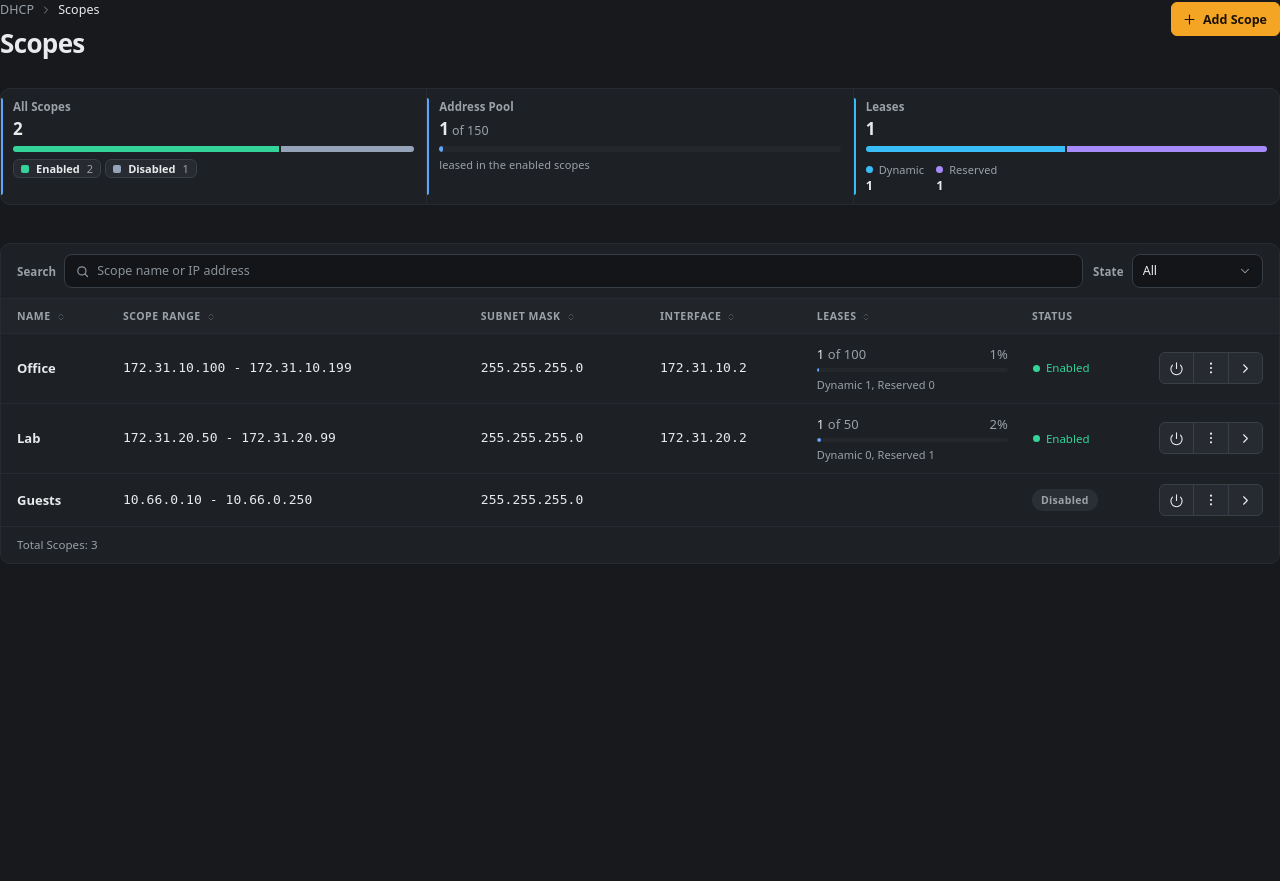
Test case: a scope as a page › its header disables with the same confirmation, and deletes back to the list without reloading it
Expected: the text "Total Scopes: 3" is shown, [17,536,98,554]
Click the button "Office": click(36, 368) [17,358,56,378]
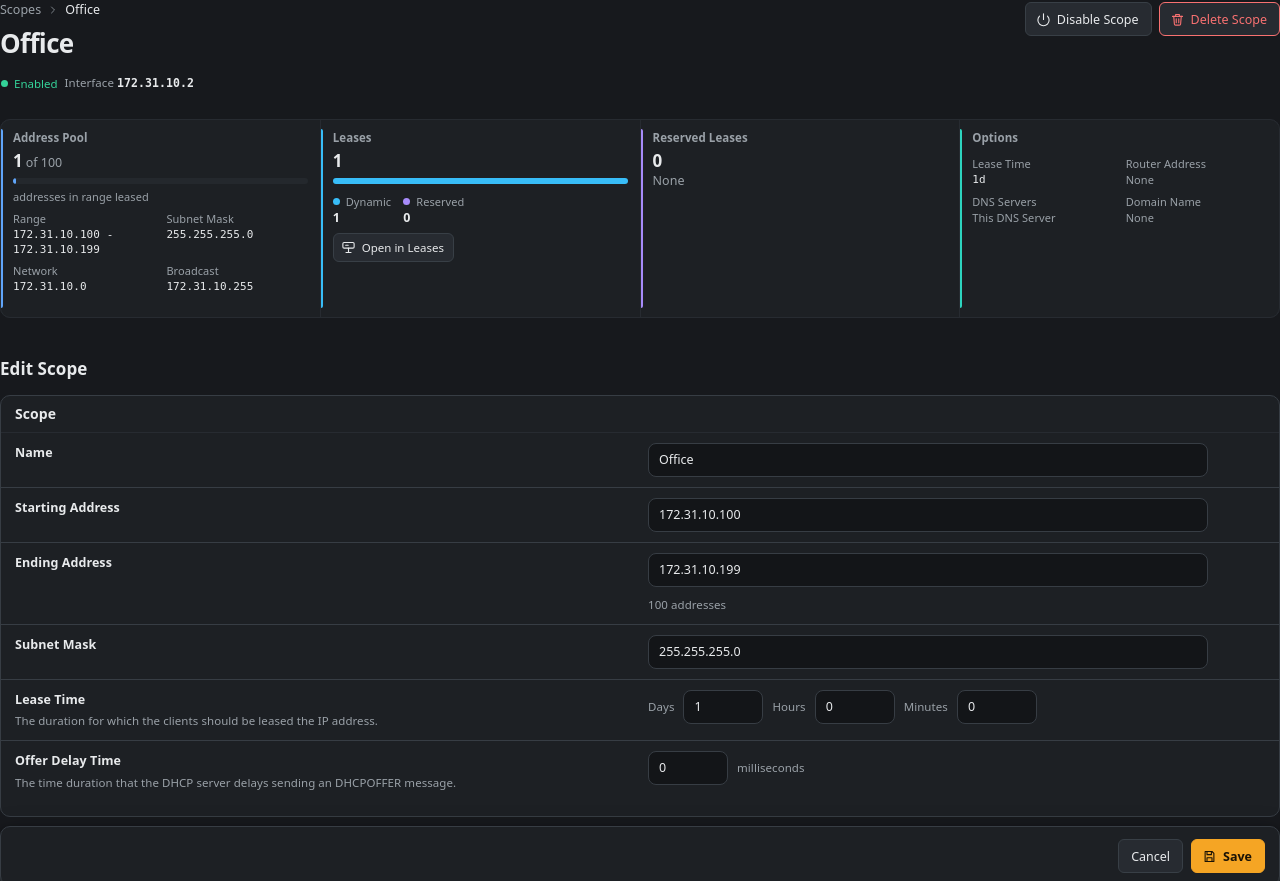
Expected: the heading "Edit Scope" is shown, [0,357,87,380]
Click the button "Disable Scope": click(1088, 19) [1025,2,1152,36]
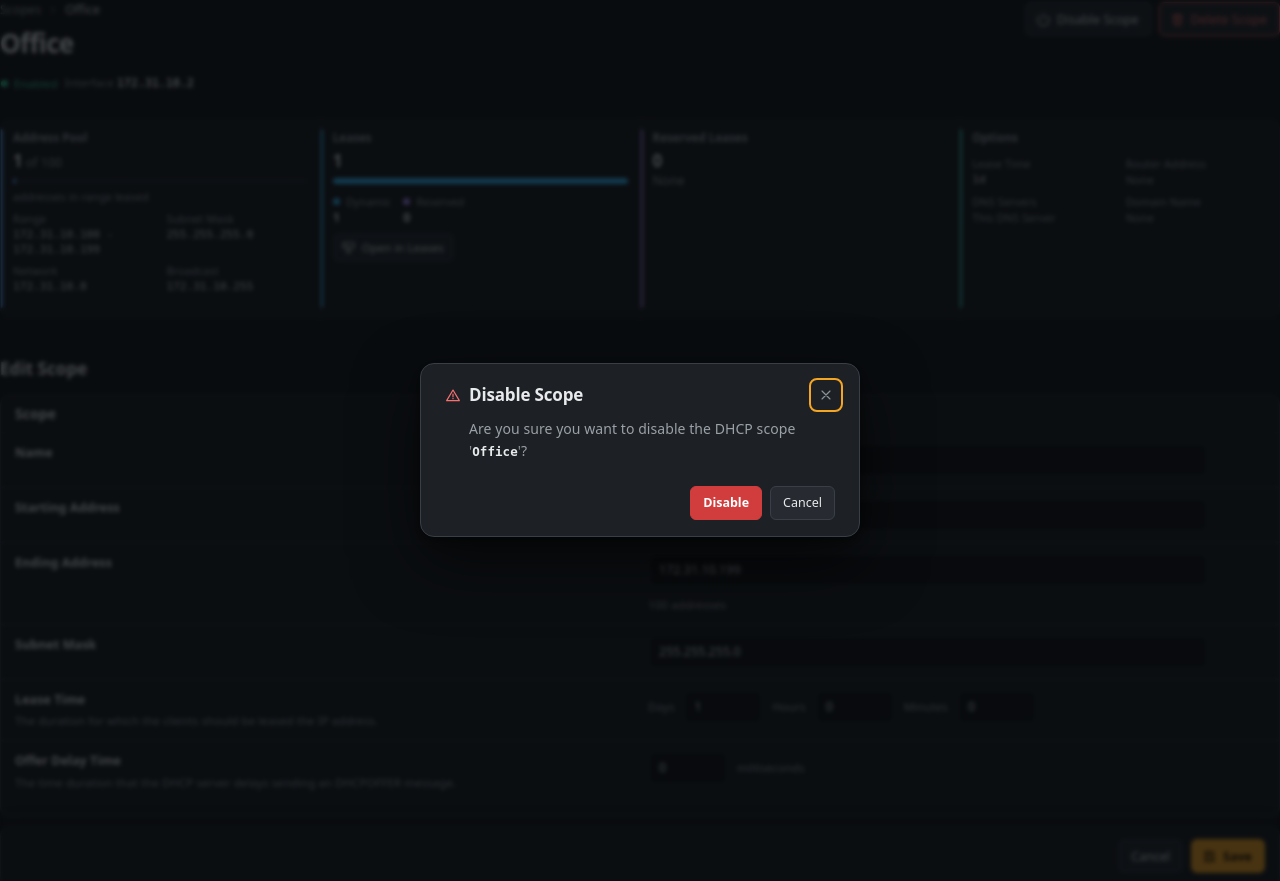
Click the button "Disable": click(726, 503) [690,486,762,520]
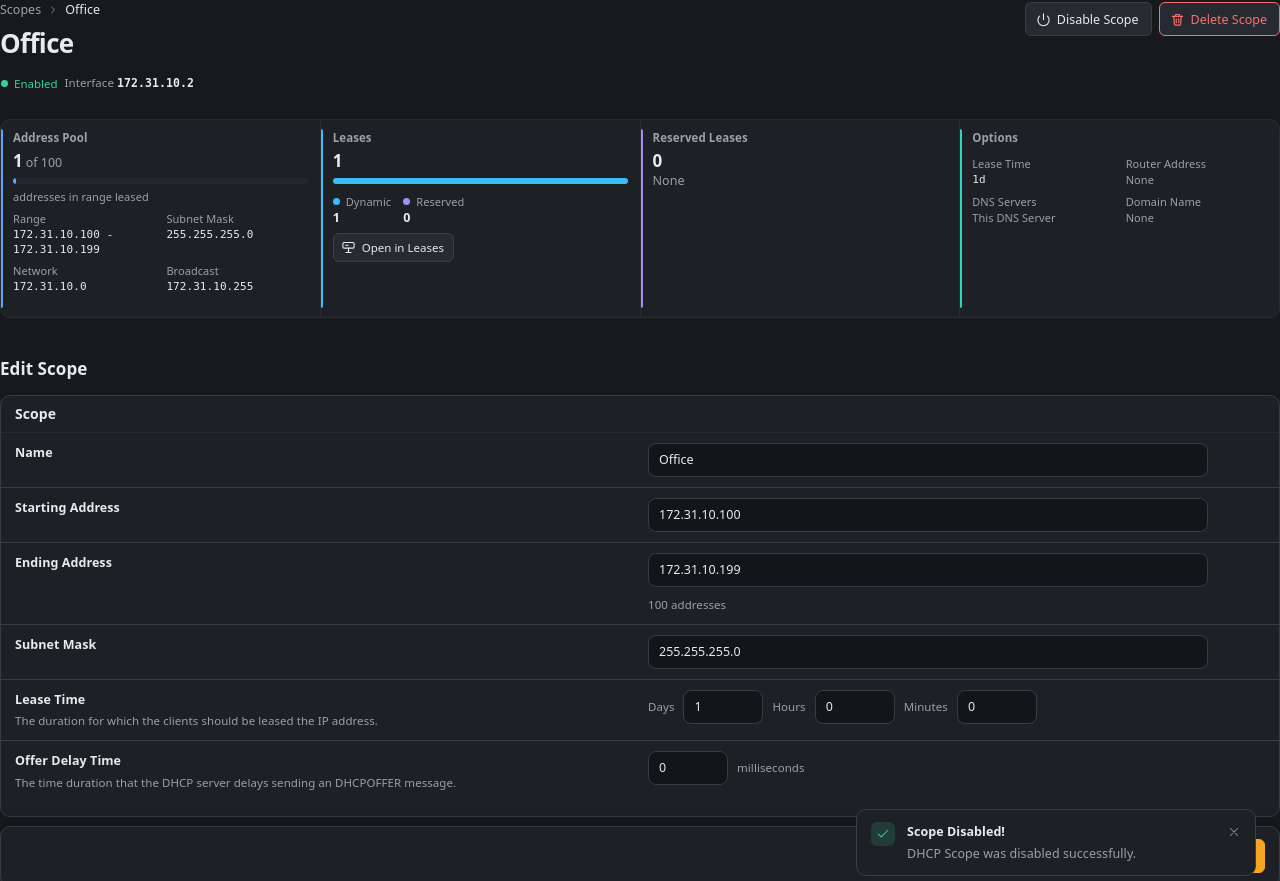
Expected: the heading "Edit Scope" is shown, [0,357,87,380]
Expected: the text "Scope Disabled!" is shown, [907,823,1005,840]
Click the button "Delete Scope": click(1219, 19) [1159,2,1279,36]
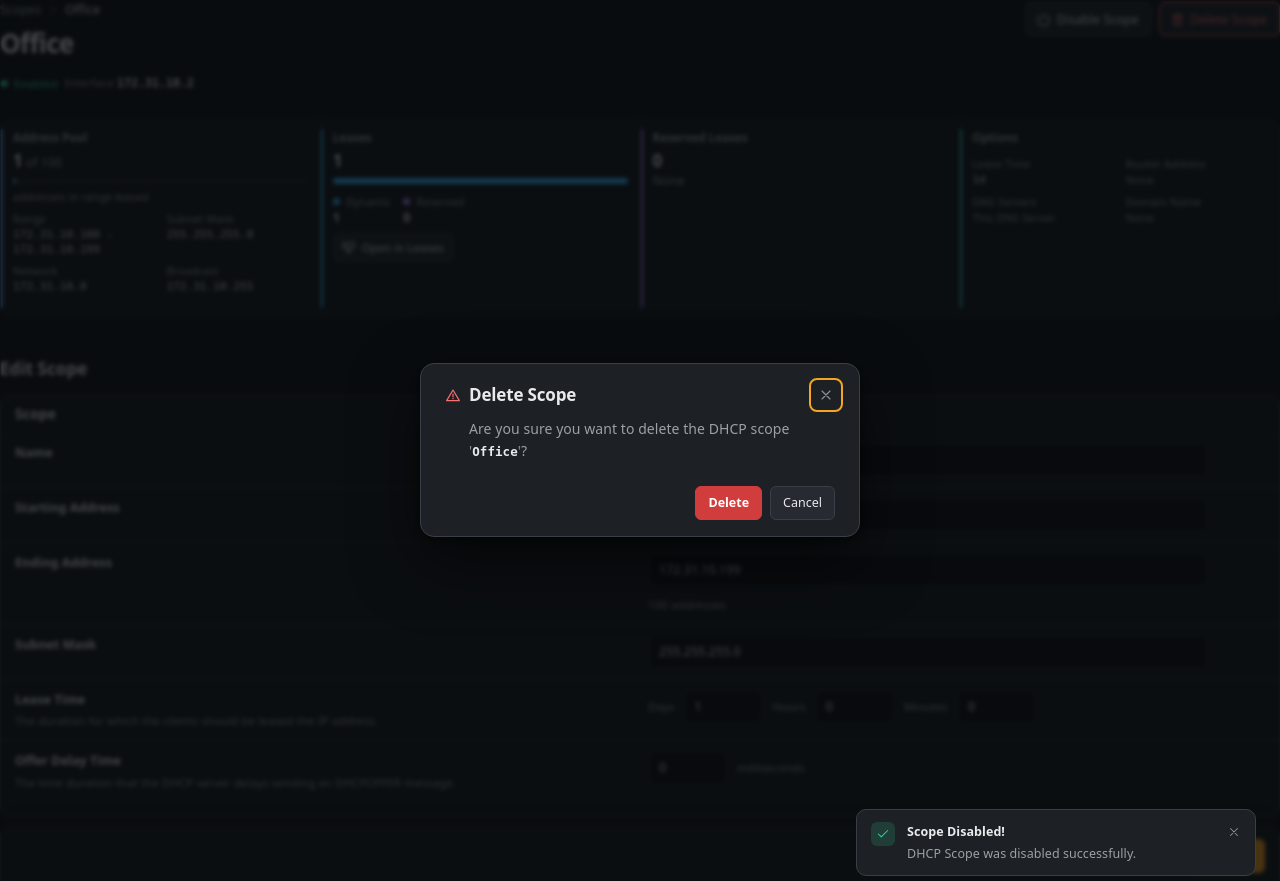
Click the button "Delete": click(729, 503) [695,486,762,520]
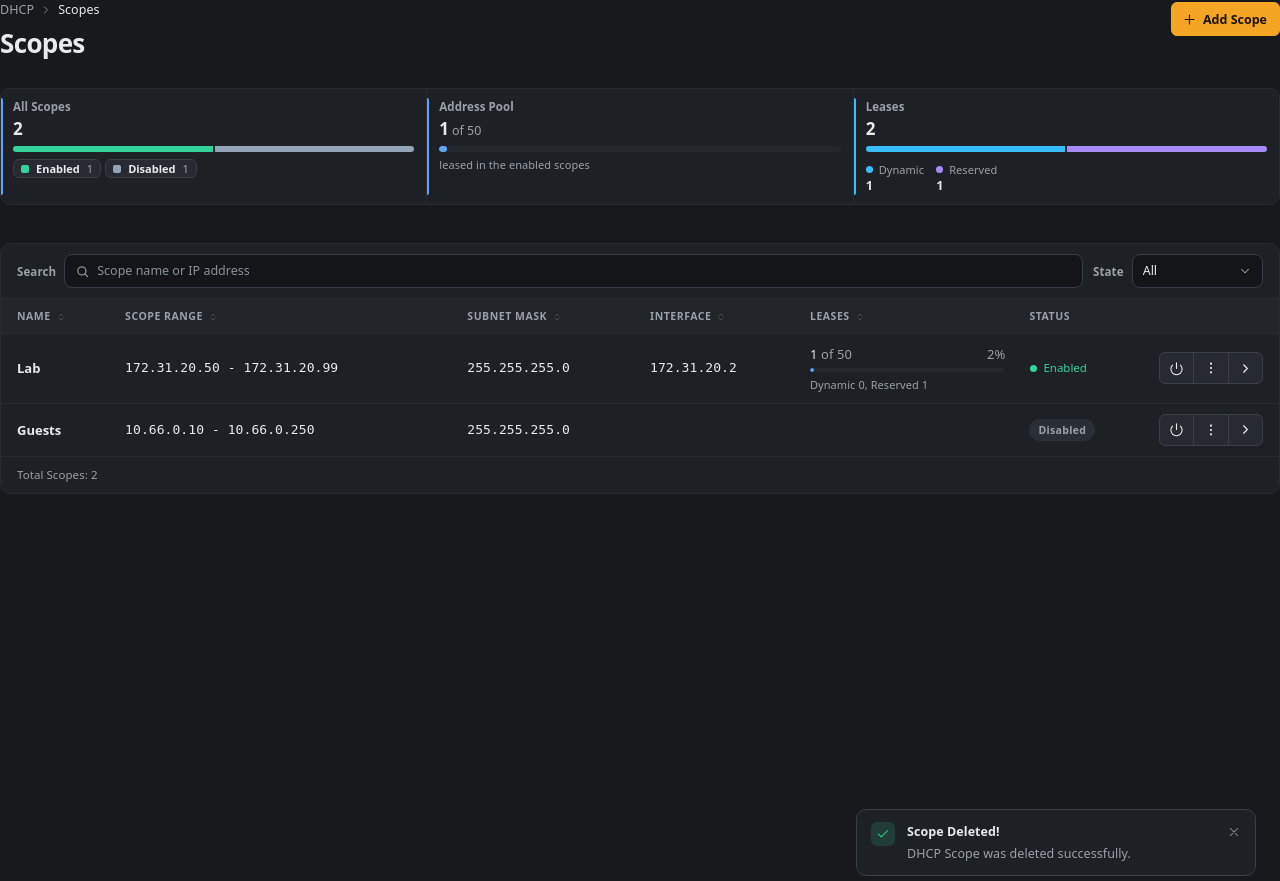
Expected: the text "Scope Deleted!" is shown, [907,823,1000,840]
Expected: the text "Total Scopes: 2" is shown, [17,466,98,484]
Expected: the text "Office" is gone
